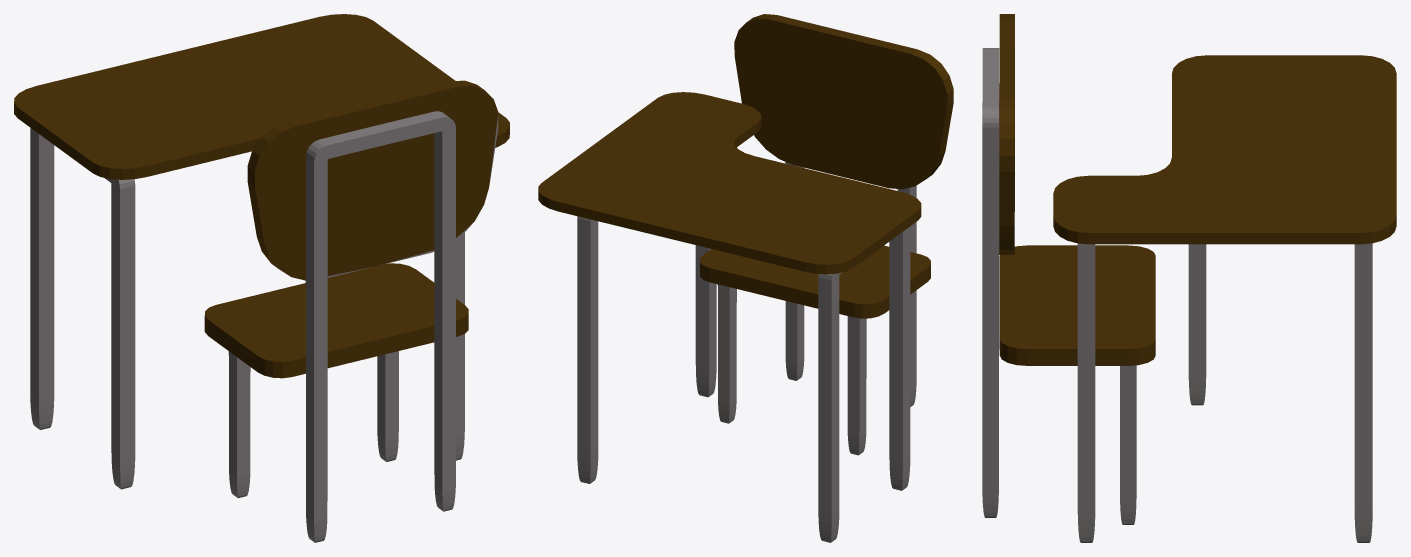
Rendered from mesa_escolar.glb.
The picture shows the model from 3 angles, left to right: view 1: azimuth 30°, elevation 25°; view 2: azimuth 150°, elevation 25°; view 3: azimuth 270°, elevation 25°; orthographic projection. The views are drawn at different scales.
Parts seen in each view (by area): view 1: Cubo.004, Cubo.003, Cubo.001, Cubo.002, Cubo; view 2: Cubo.004, Cubo.003, Cubo, Cubo.001, Cubo.002; view 3: Cubo.004, Cubo.002, Cubo, Cubo.001, Cubo.003.
Part boxes in pixels (x1=…): Cubo.004: x1=14, y1=14, x2=509, y2=179; Cubo.003: x1=247, y1=80, x2=498, y2=280; Cubo.001: x1=228, y1=111, x2=498, y2=542; Cubo.002: x1=204, y1=263, x2=468, y2=378; Cubo: x1=30, y1=128, x2=464, y2=489; Cubo.004: x1=538, y1=92, x2=921, y2=274; Cubo.003: x1=734, y1=14, x2=953, y2=189; Cubo: x1=577, y1=216, x2=910, y2=542; Cubo.001: x1=717, y1=162, x2=916, y2=455; Cubo.002: x1=700, y1=245, x2=930, y2=318; Cubo.004: x1=1053, y1=55, x2=1396, y2=244; Cubo.002: x1=999, y1=245, x2=1155, y2=365; Cubo: x1=1077, y1=243, x2=1372, y2=542; Cubo.001: x1=982, y1=48, x2=1136, y2=524; Cubo.003: x1=999, y1=14, x2=1014, y2=254.
Bounding box in the file's own units: 3.15 × 3.52 × 3.1.
